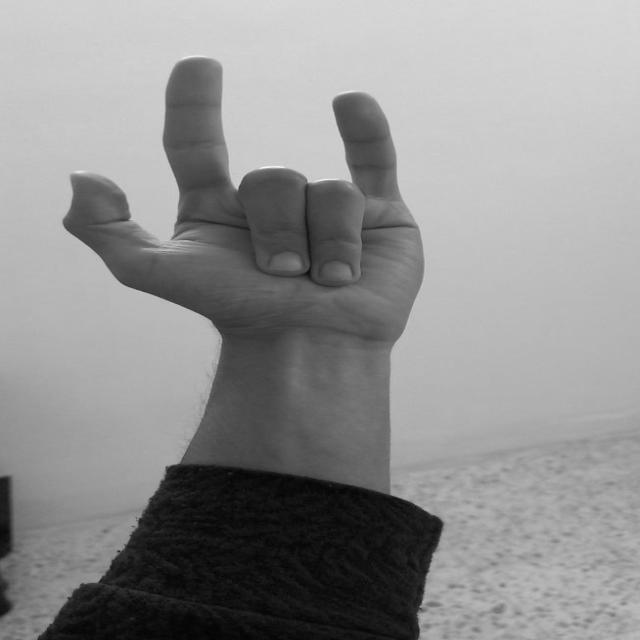i love you: (52, 44, 443, 359)
